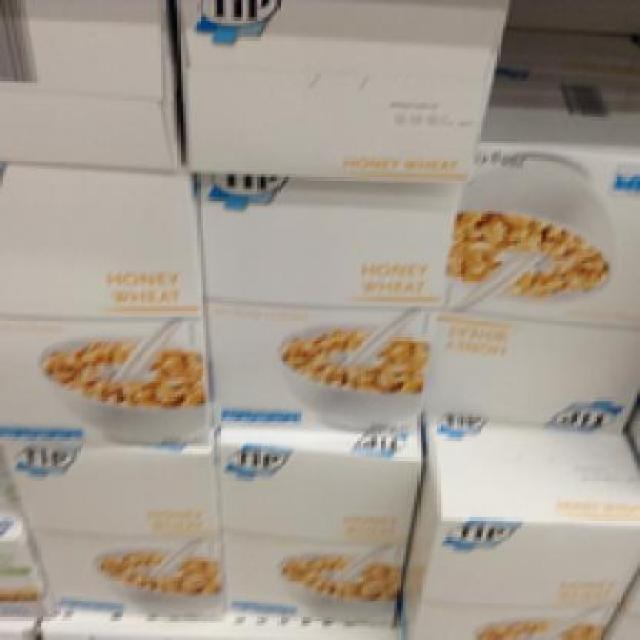Cereal: (197, 168, 460, 424), (0, 160, 206, 437), (448, 143, 634, 423), (214, 426, 426, 623), (0, 436, 217, 610)
